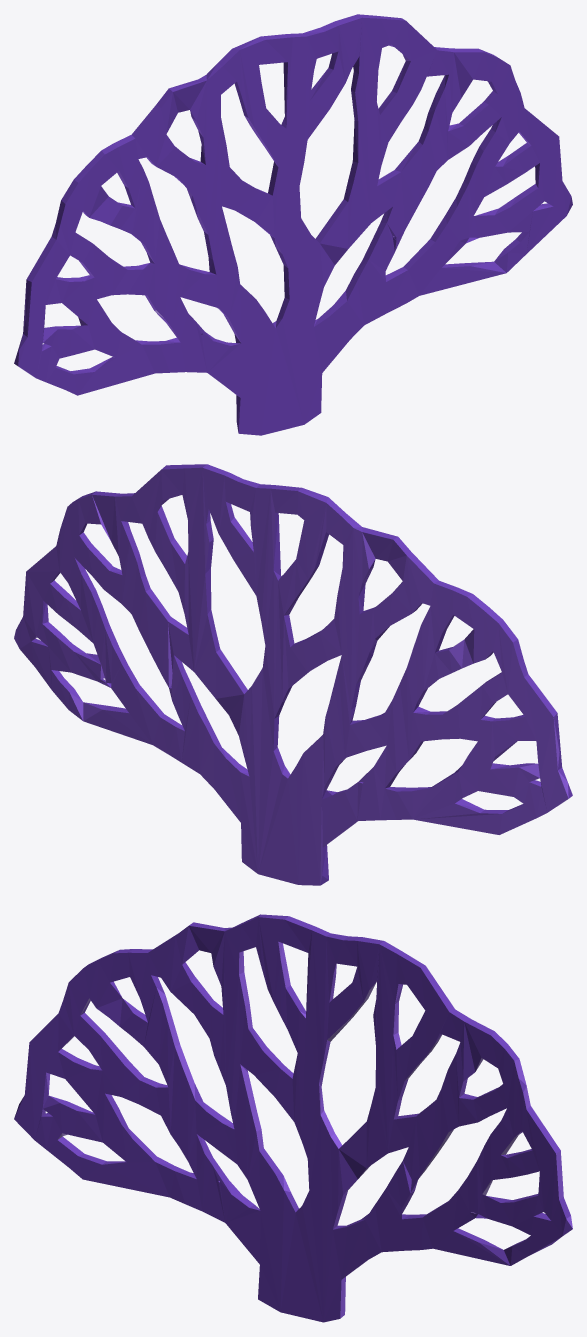
Rendered from MB_SeaFan_LOD.fbx.
The picture shows the model from 3 angles, top to bottom: view 1: azimuth 30°, elevation 25°; view 2: azimuth 150°, elevation 25°; view 3: azimuth 330°, elevation 25°; orthographic projection.
Visible parts, largest first — view 1: SeaFan; view 2: SeaFan; view 3: SeaFan.
Part boxes in pixels (x1=…): SeaFan: x1=14, y1=14, x2=572, y2=435; SeaFan: x1=14, y1=464, x2=572, y2=885; SeaFan: x1=14, y1=914, x2=572, y2=1322.
Size of the model in its own units: 1162 by 786 by 61.31.
1 material, 1 textured.
